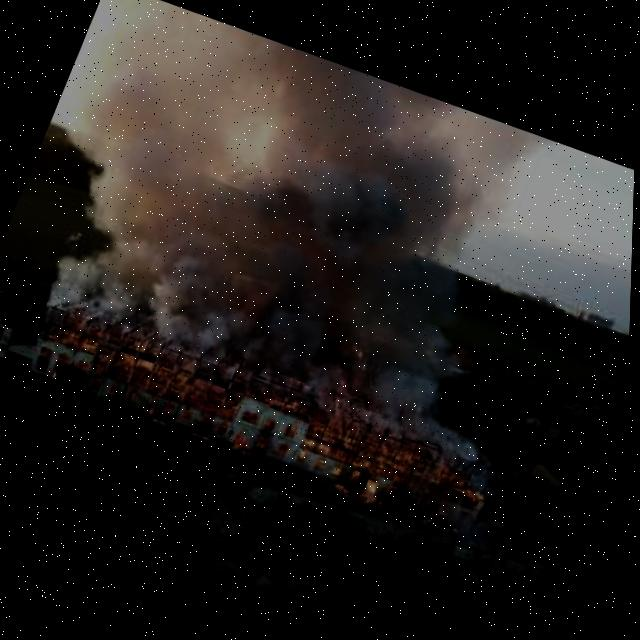Fire: (17, 300, 504, 554)
Smoke: (28, 0, 558, 448)
